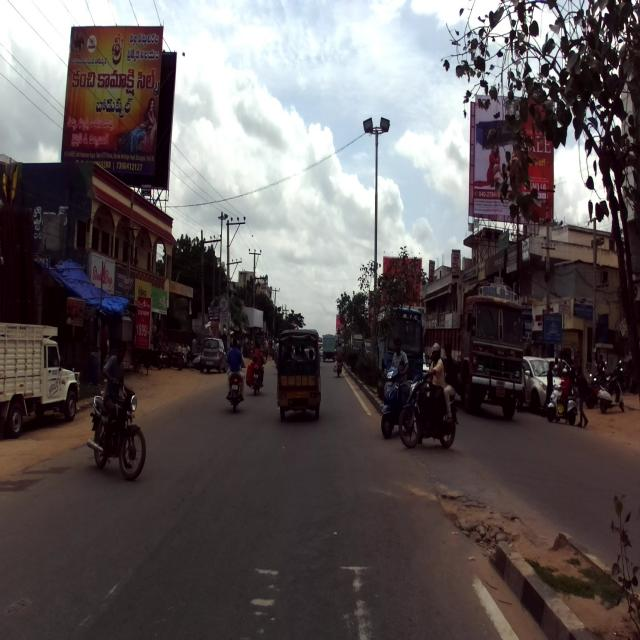motorcycle_bajaj: (88, 377, 146, 480)
scooter: (379, 358, 415, 436)
